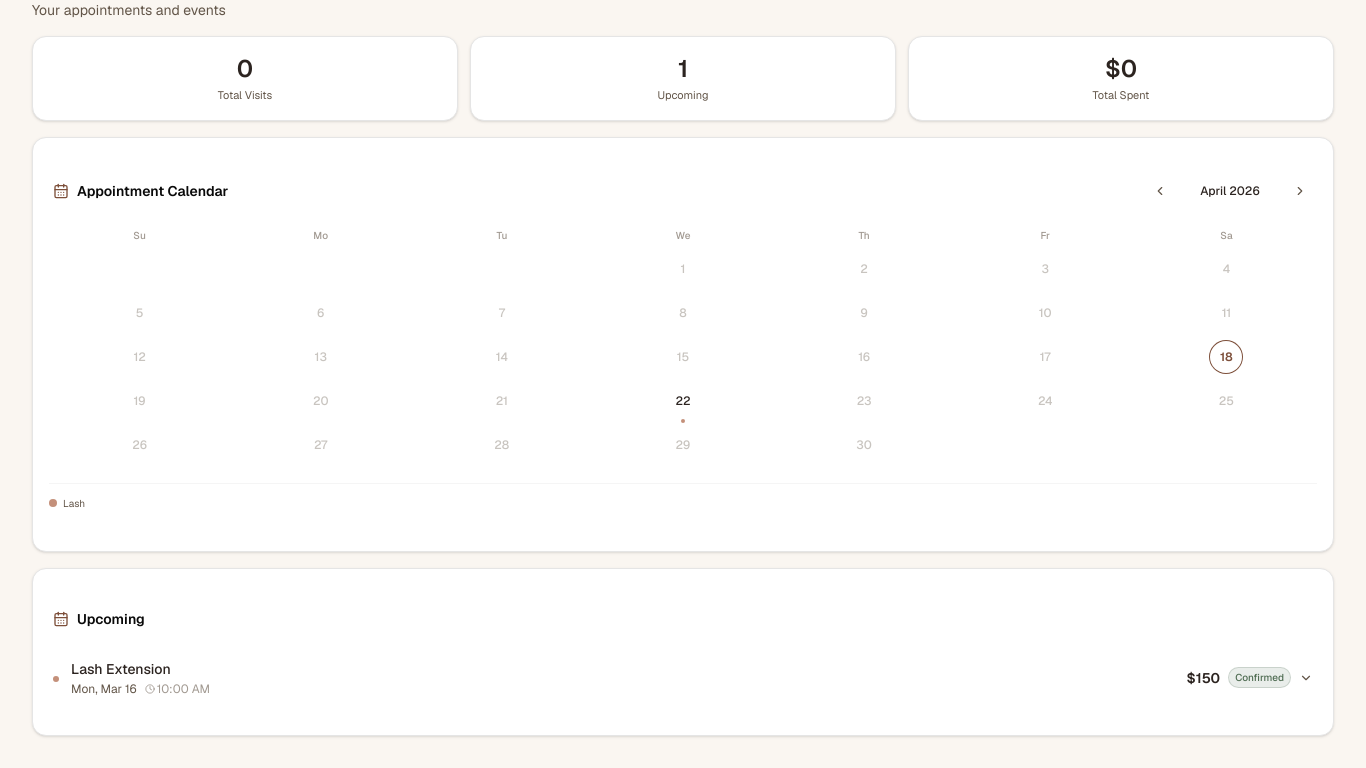
it: ClientBookingsPage › cancel action › opens cancel modal when cancel button is clicked
This screenshot has width=1366, height=768.
(page scrolled)
What coordinates should you click on to do the following:
click the button "Lash Extension"
I would click on:
 (121, 668)
Its box is [33,644,1333,710].
(page scrolled)
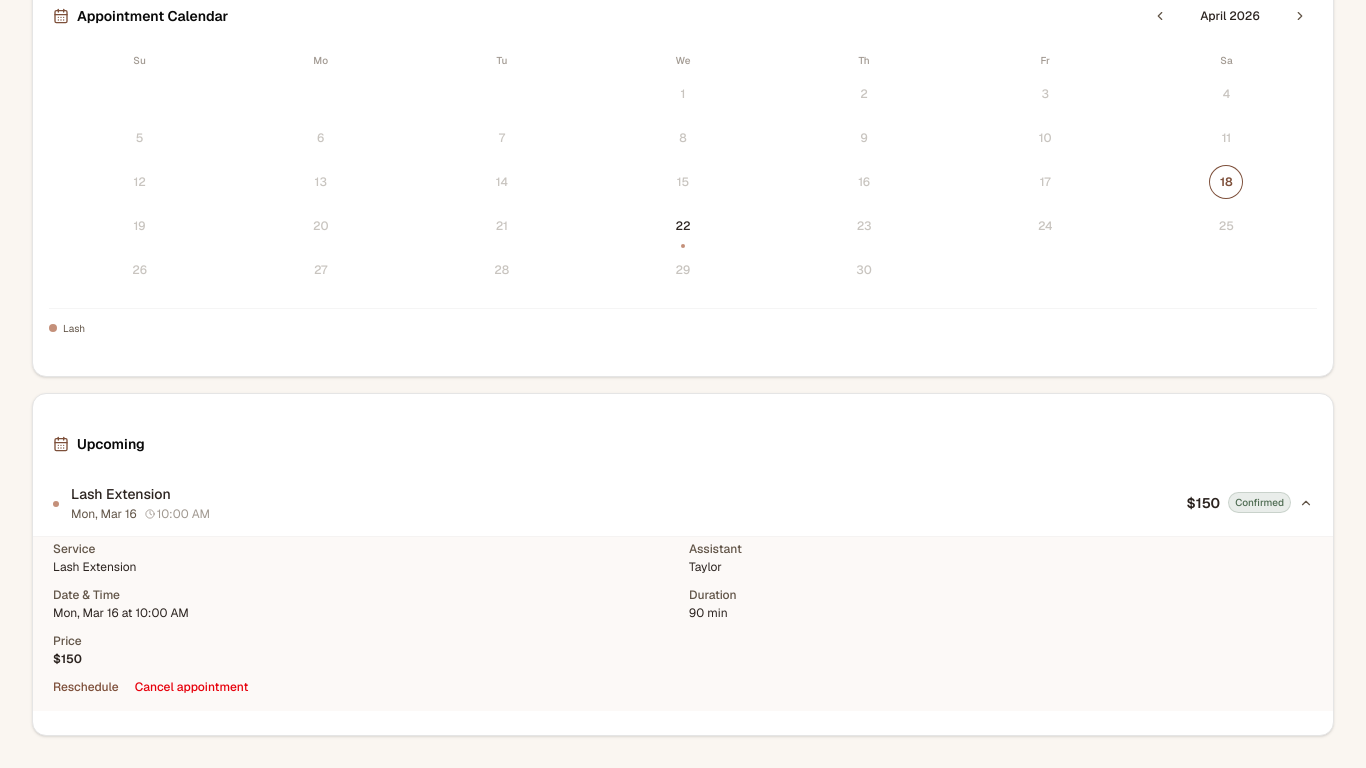
What coordinates should you click on to do the following:
click the button "Cancel appointment"
I would click on:
 (192, 686)
Its box is [135,678,248,694].
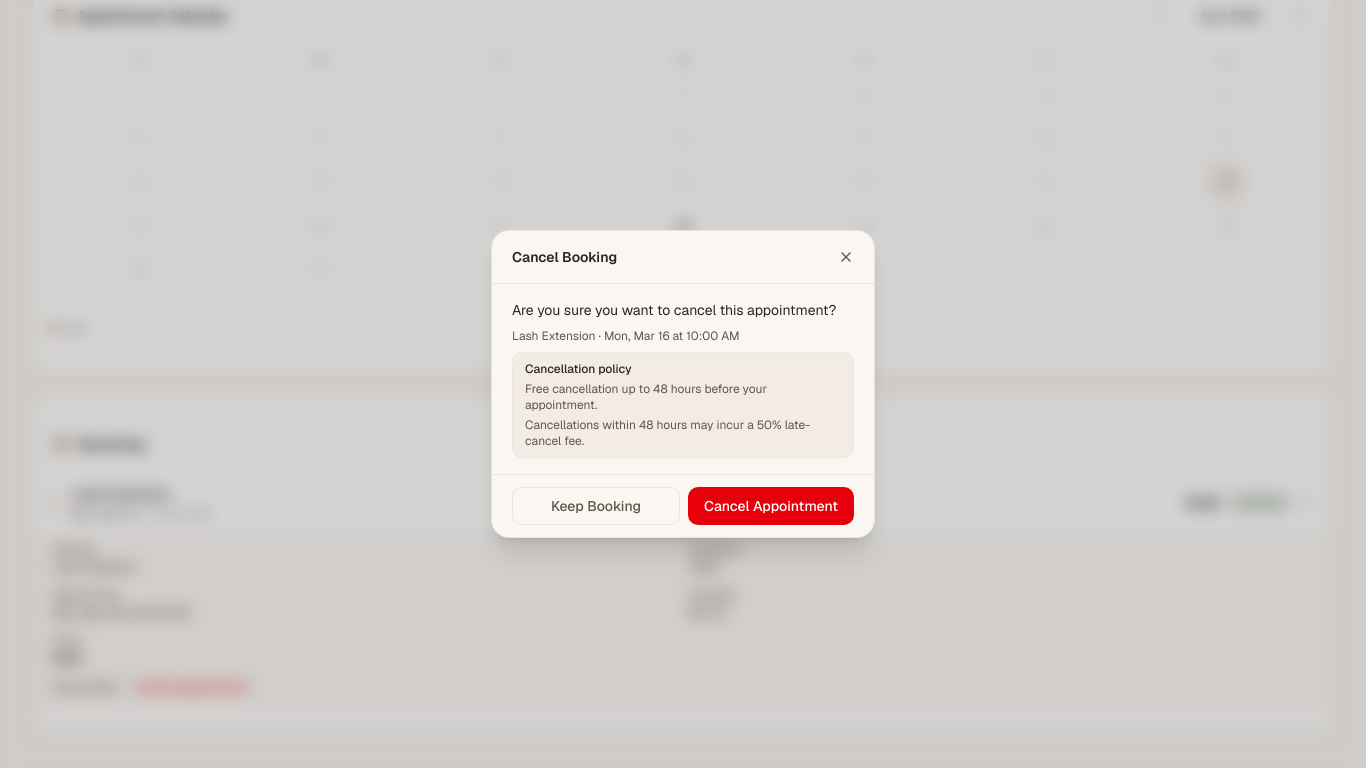
Result: the text "Cancel Booking" is shown at [512,247,617,267]
Result: the text "Are you sure you want to cancel this appointment?" is shown at [512,300,854,320]
